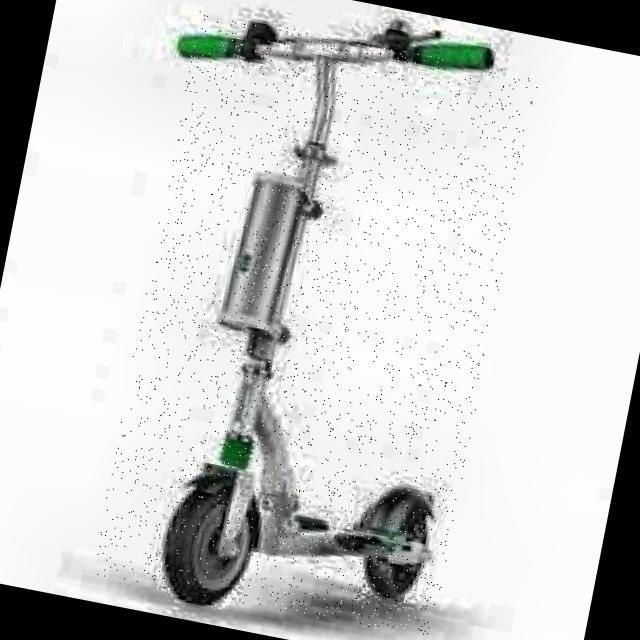bike: (162, 162, 441, 614)
